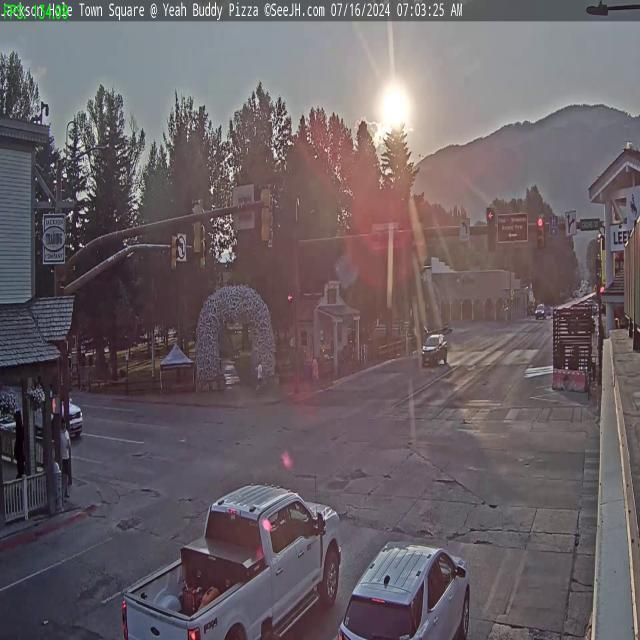person: (59, 416, 72, 495)
pickup: (121, 480, 342, 640)
suv: (328, 534, 471, 639), (50, 396, 82, 445), (420, 330, 448, 368)
traffic light: (261, 184, 273, 246), (191, 198, 203, 255), (486, 207, 497, 252), (171, 231, 180, 274), (536, 214, 545, 248)
